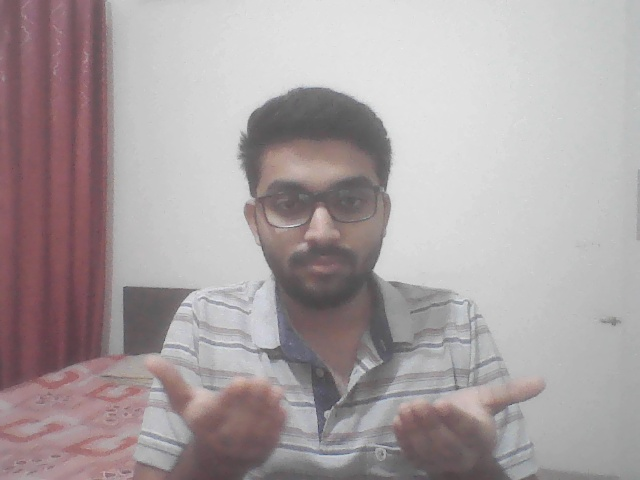what: (117, 335, 558, 476)
